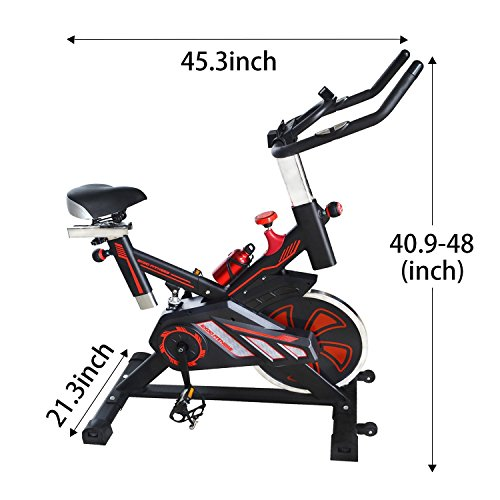gym_bike: (54, 51, 425, 404)
